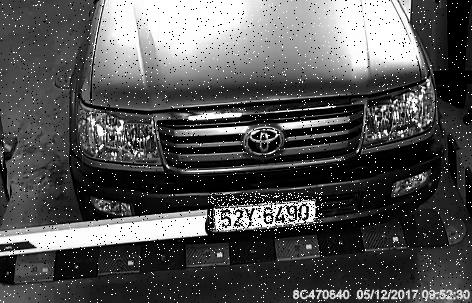License-plate: (210, 194, 325, 232)
